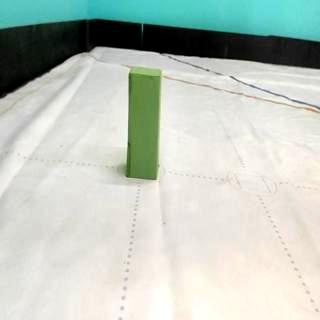greenbox: (125, 62, 164, 182)
